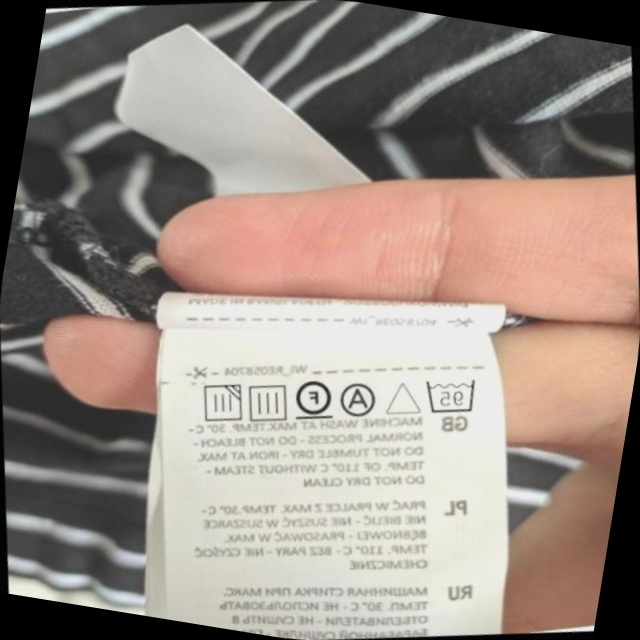95C: (417, 367, 484, 423)
bleach: (379, 371, 427, 423)
drip_dry: (239, 374, 296, 429)
drip_dry_in_shade: (191, 374, 249, 432)
dry_clean: (334, 375, 384, 423)
dry_clean_petrol_only: (287, 369, 340, 427)
